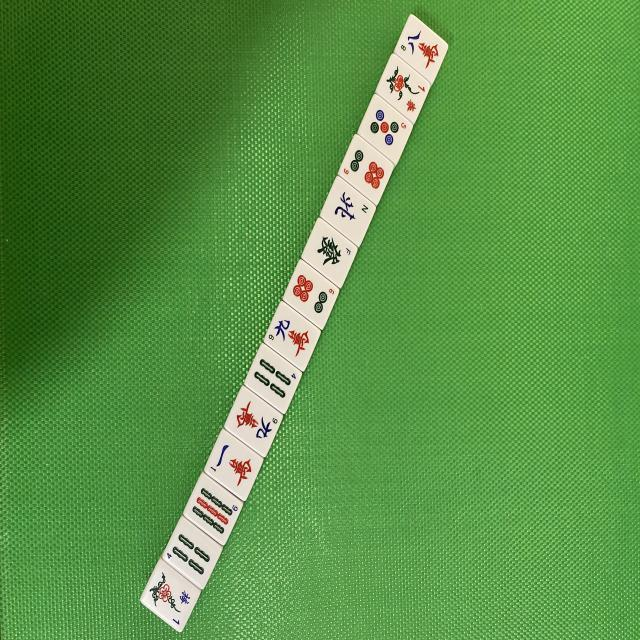bf1: (141, 562, 202, 633)
bs1: (374, 52, 431, 126)
hdg: (302, 216, 361, 288)
hwn: (319, 176, 379, 247)
sb4: (243, 344, 304, 414), (162, 519, 222, 586)
sb9: (183, 473, 244, 546)
sc1: (202, 427, 265, 503)
sc8: (392, 14, 450, 84)
sc9: (262, 300, 322, 370), (226, 396, 284, 446)
sd5: (356, 92, 416, 166)
sd6: (337, 133, 396, 206), (282, 259, 341, 330)
